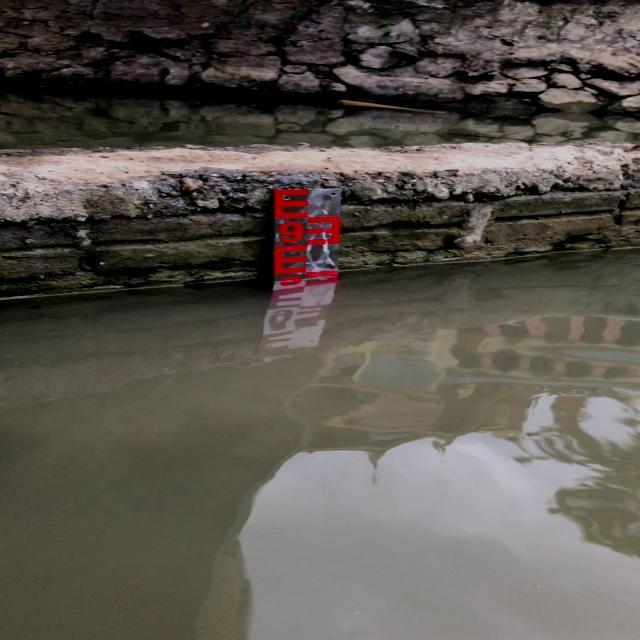ruler: (266, 179, 346, 290)
value: (274, 214, 308, 247)
